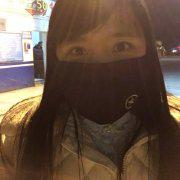OK: (57, 33, 149, 125)
